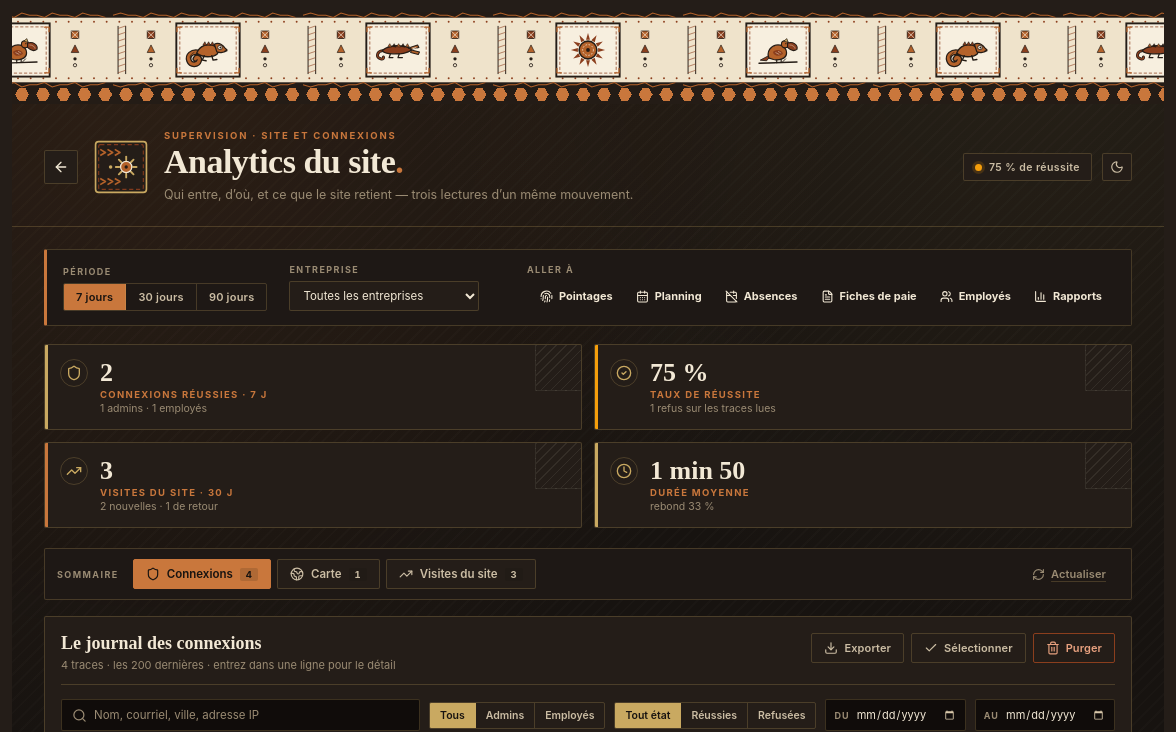
4. le journal des connexions › exporte le CSV filtré
The image size is (1176, 732).
Click the button "Exporter" at (858, 648), box [812,633,904,663]
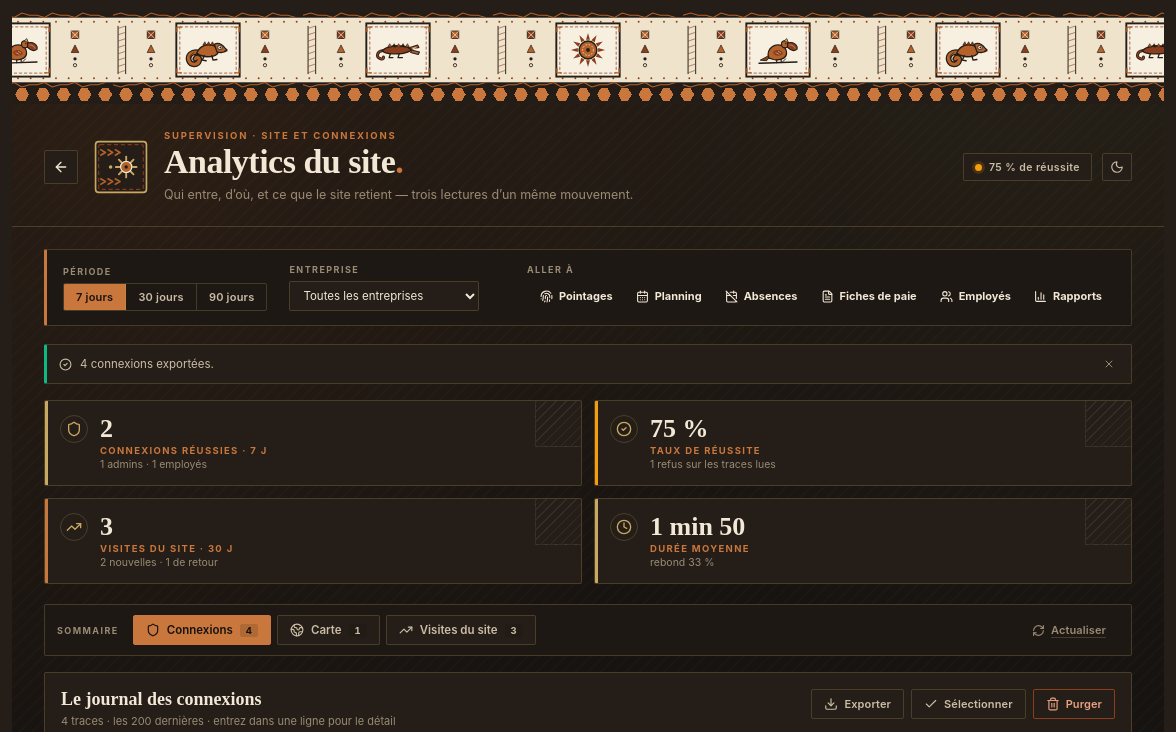
Check: the text "connexions exportées" is shown, box [80,357,214,371]
